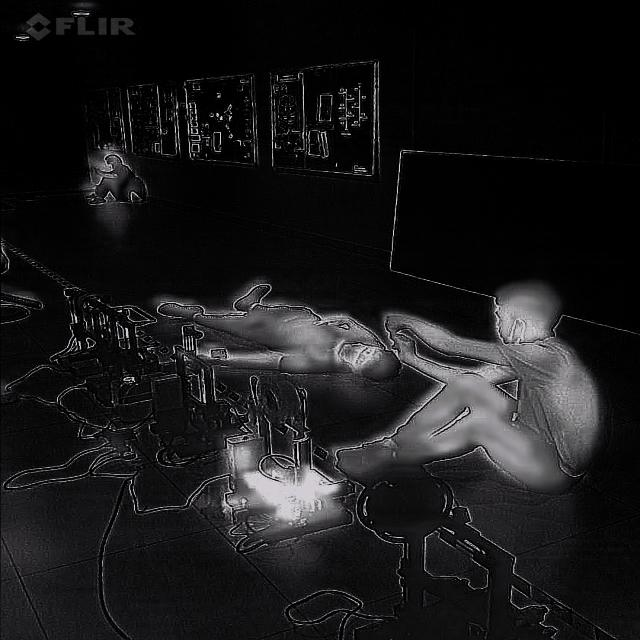Victim: (328, 281, 610, 499), (138, 277, 412, 390), (75, 146, 152, 208)
